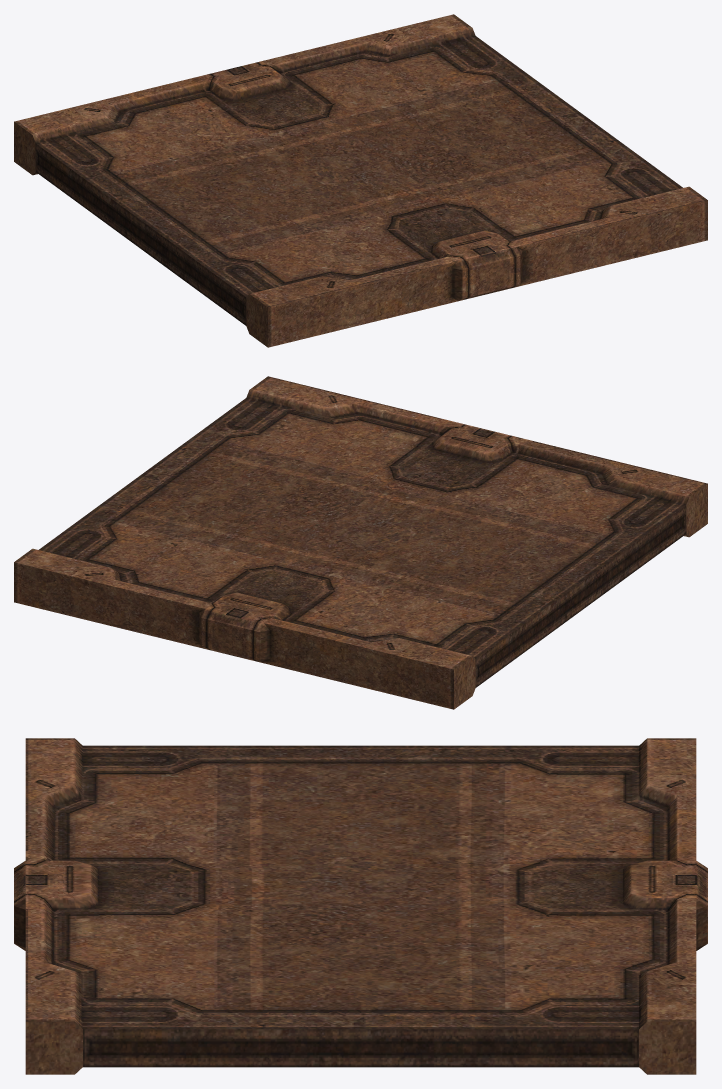
The model's file is catwalk_rusty_short.dae.
3 renders of one model, top to bottom at view 1: azimuth 30°, elevation 25°; view 2: azimuth 150°, elevation 25°; view 3: azimuth 270°, elevation 25°, orthographic. The views are drawn at different scales.
Visible parts, largest first — view 1: short; view 2: short; view 3: short.
Part boxes in pixels (box(x1,y1,x2,y2)): short: box(14, 14, 707, 347); short: box(14, 376, 707, 709); short: box(14, 738, 707, 1074).
Size of the model in its own units: 2 by 0.1745 by 2.07.
